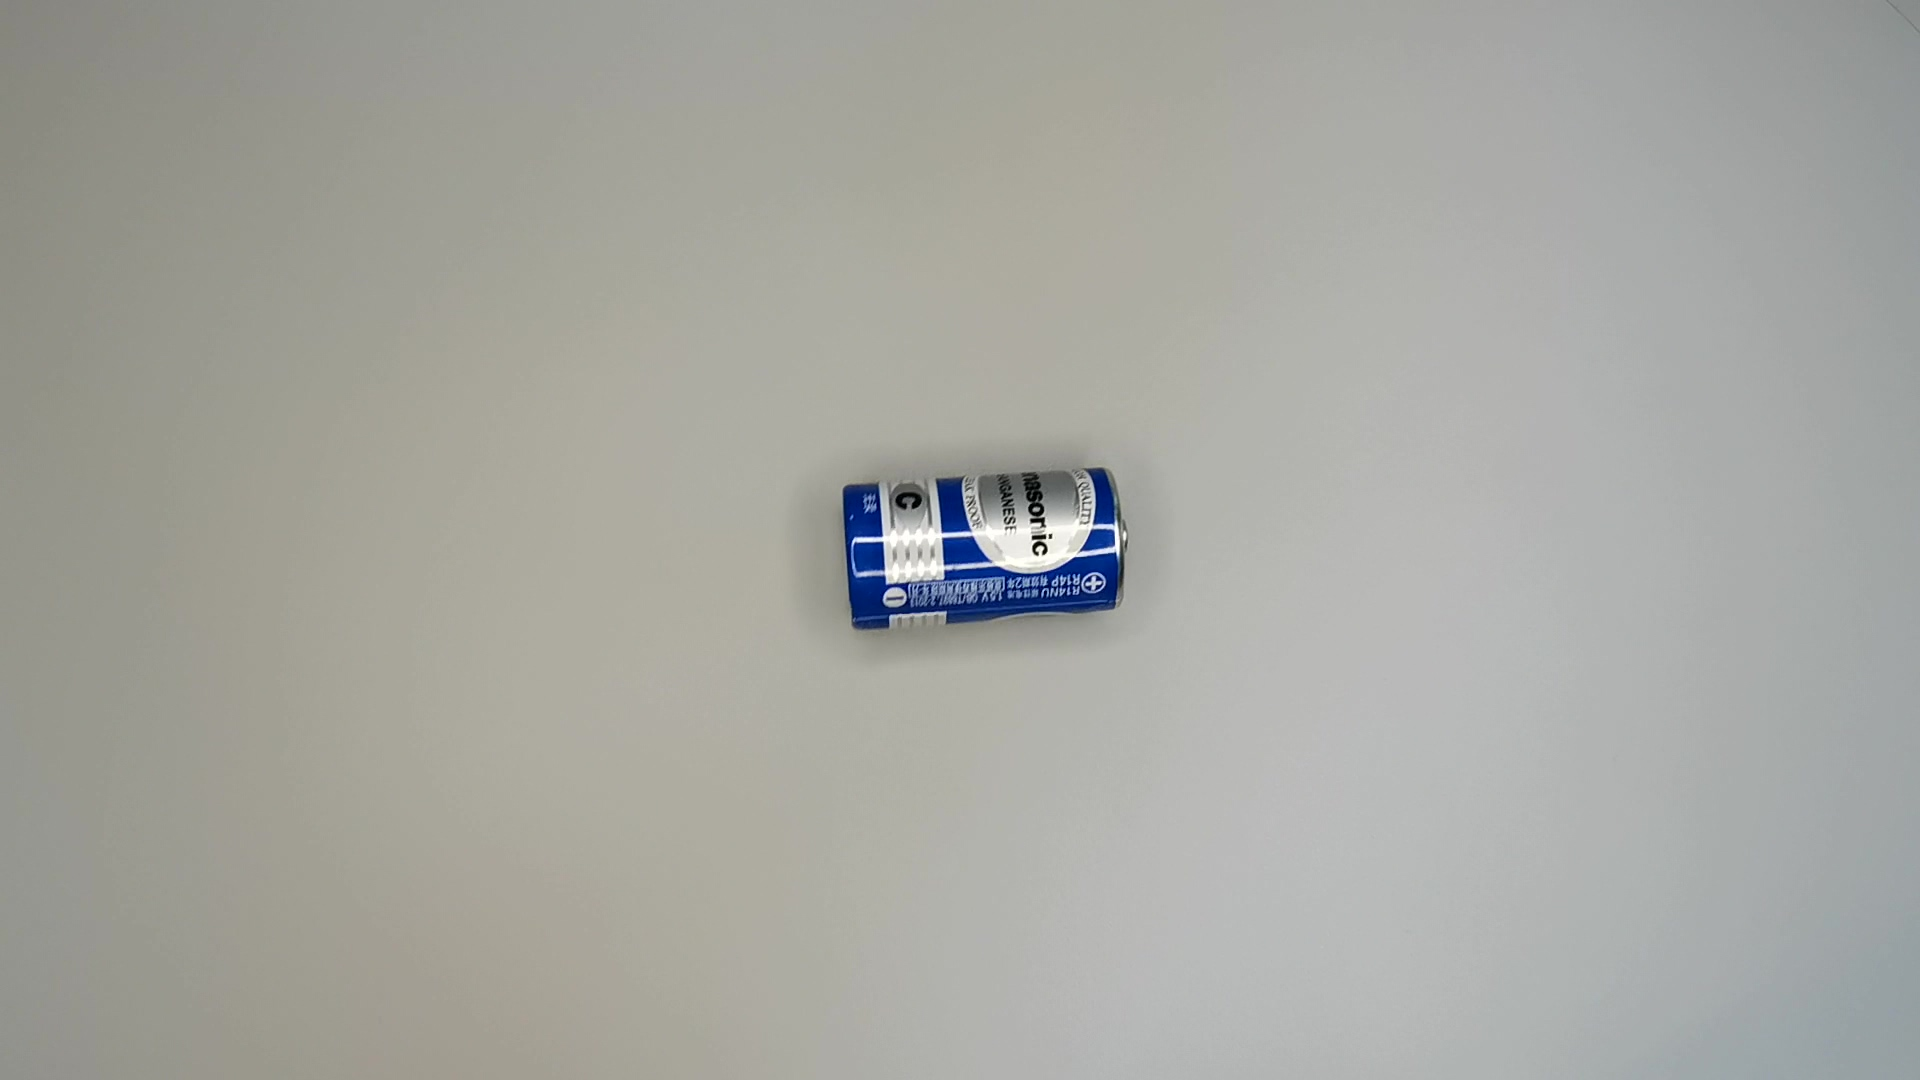battery: (832, 468, 1134, 632)
